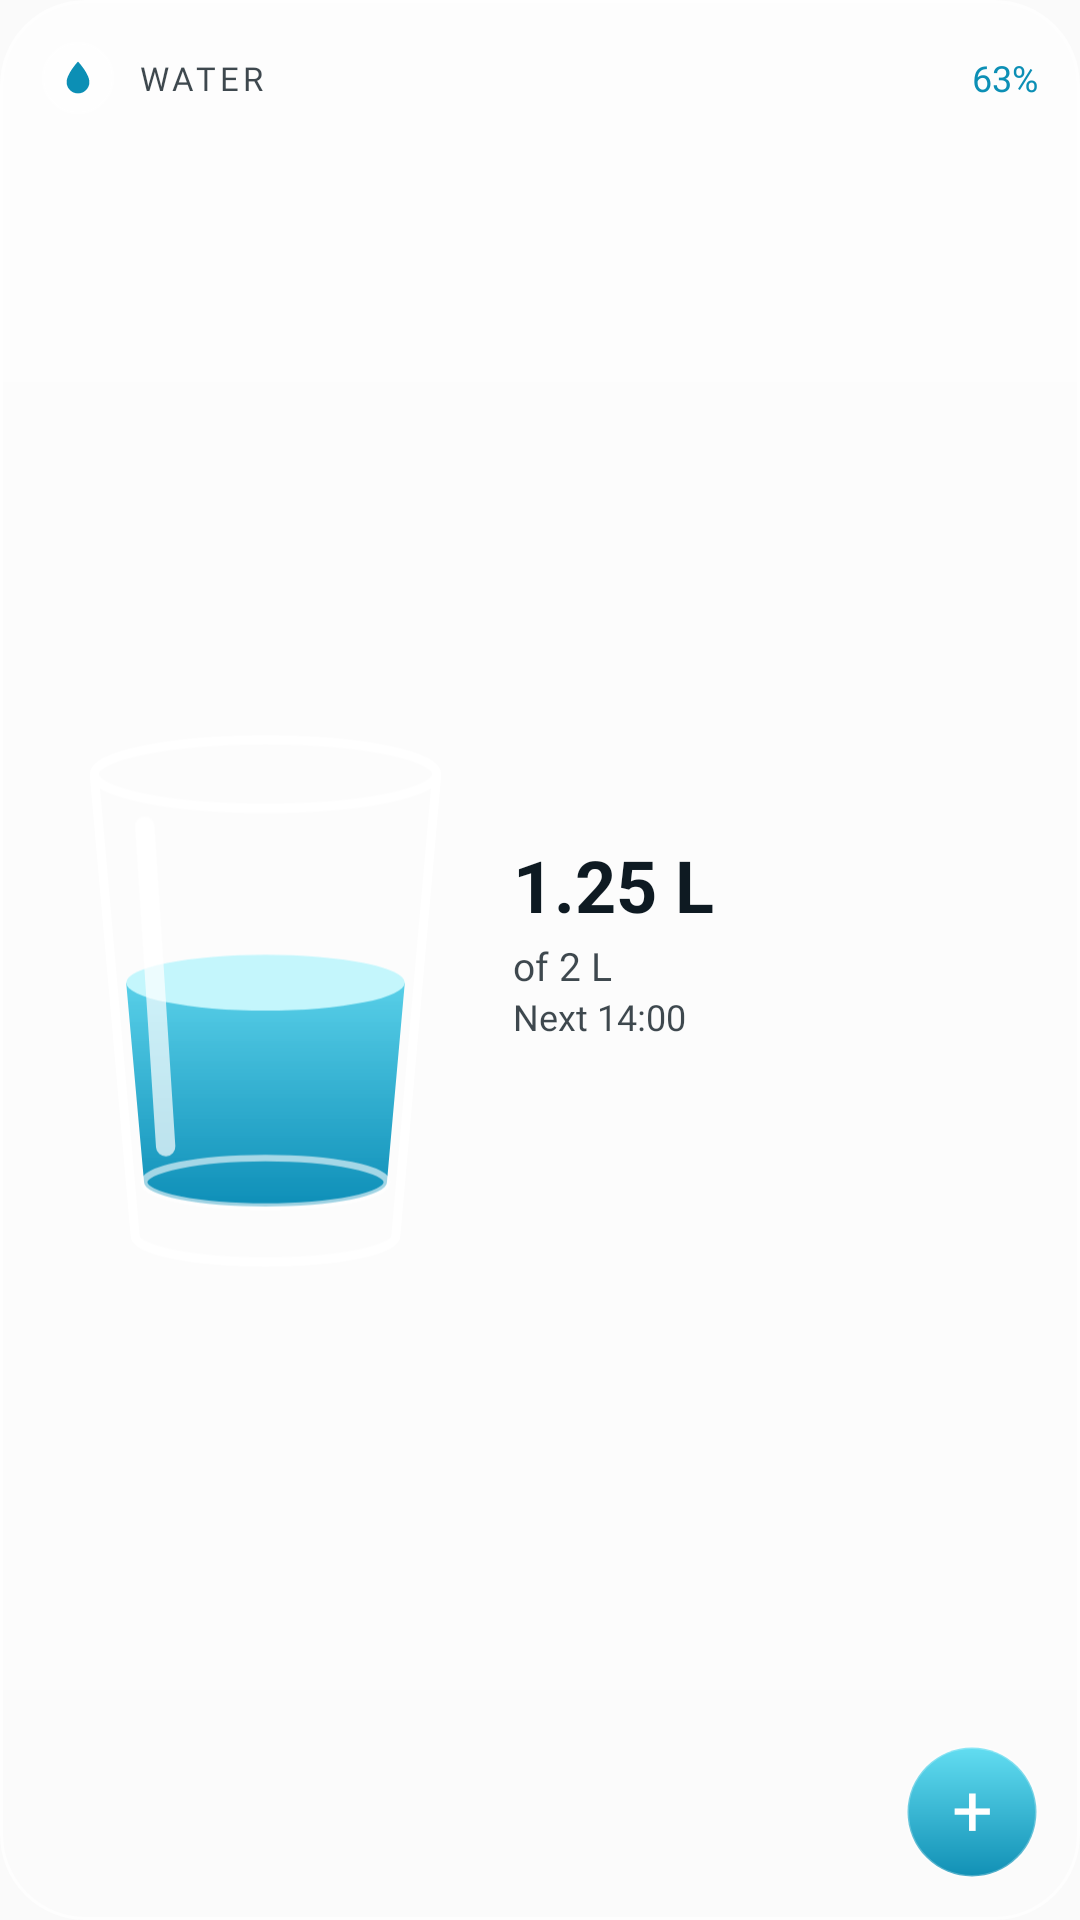

Named icons in this screenshot (1080×1920) and their centers, point (x, y):
widget drop: point (78, 78)
